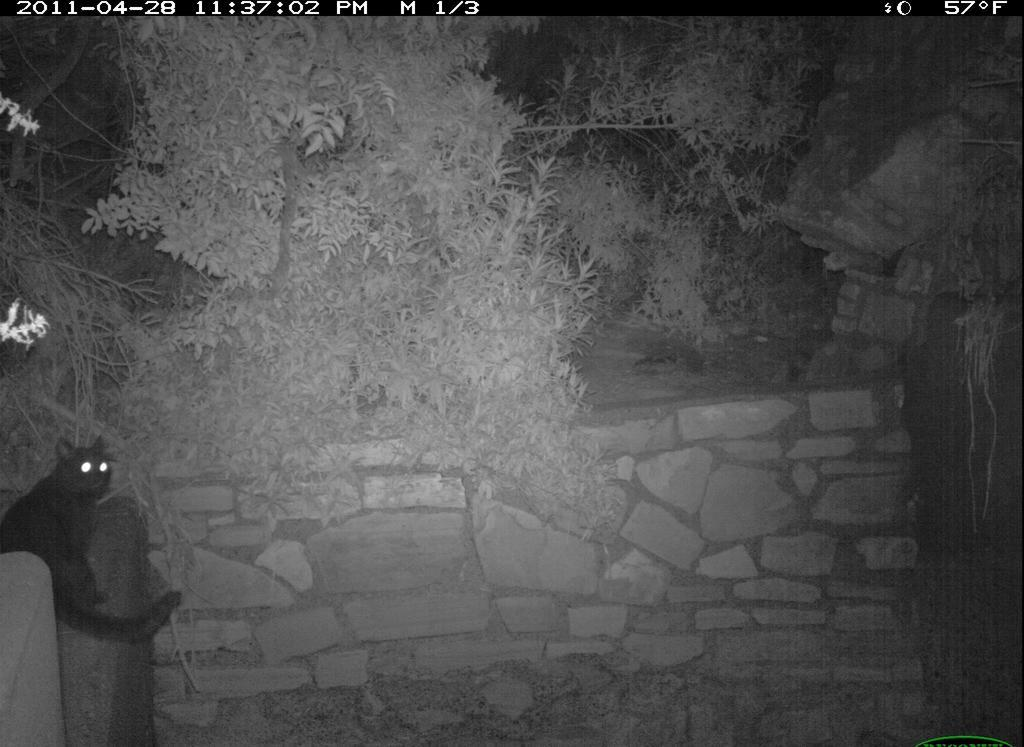cat: (2, 433, 187, 648)
